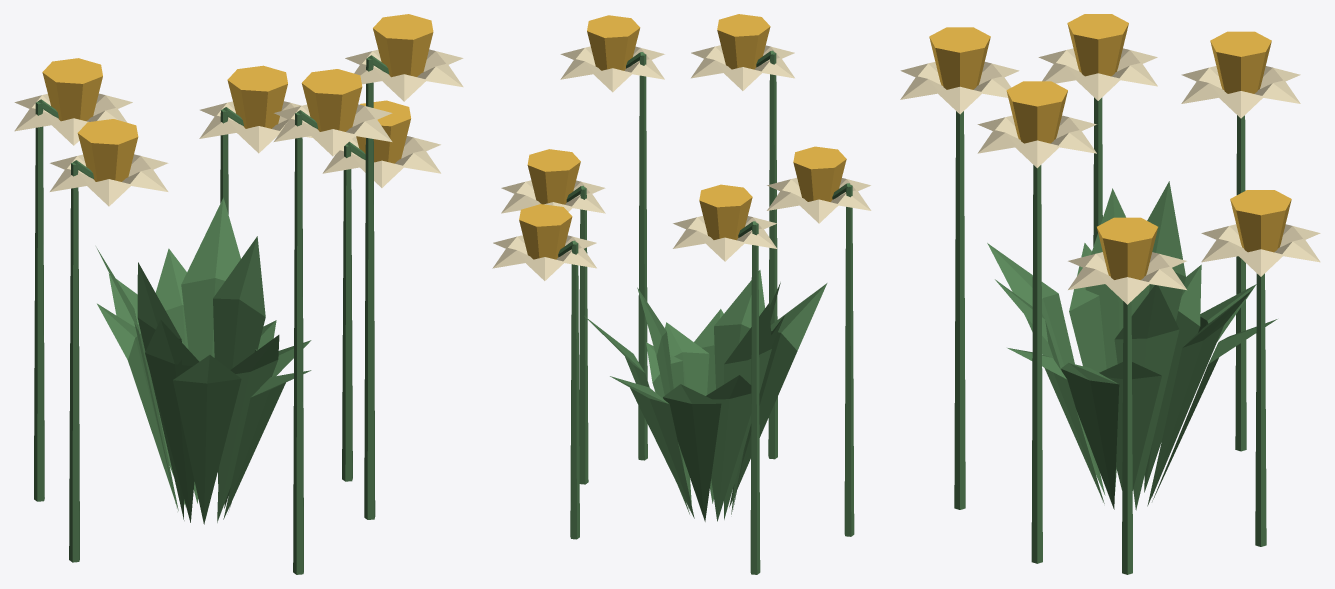
File: b08_daffodil_cluster.glb
3 views of the same model, side by side, from view 1: azimuth 30°, elevation 25°; view 2: azimuth 150°, elevation 25°; view 3: azimuth 270°, elevation 25° (orthographic). The views are drawn at different scales.
Visible parts, largest first — view 1: b08_daffodil_cluster; view 2: b08_daffodil_cluster; view 3: b08_daffodil_cluster.
Part boxes in pixels (left/top/right/bottom): b08_daffodil_cluster: left=14, top=14, right=463, bottom=574; b08_daffodil_cluster: left=492, top=14, right=871, bottom=574; b08_daffodil_cluster: left=900, top=14, right=1320, bottom=574.
Bounding box in the file's own units: 0.4774 × 0.541 × 0.4255.
